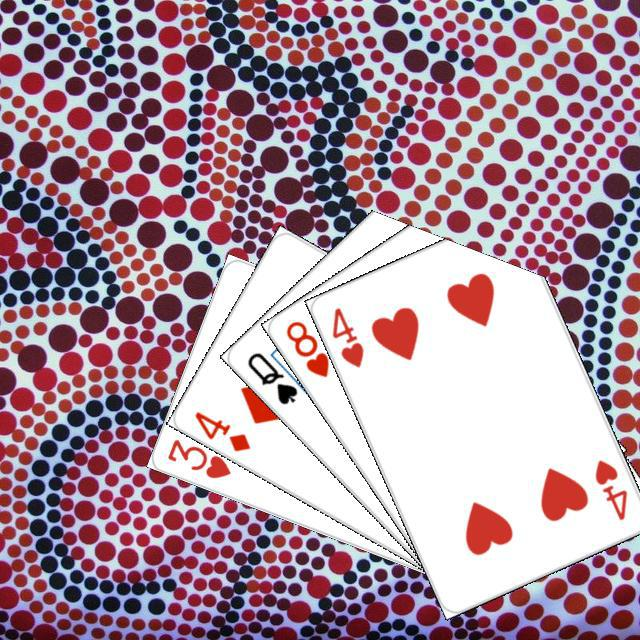3h: (162, 434, 233, 481)
4d: (189, 406, 252, 454)
4h: (589, 454, 630, 522), (327, 302, 366, 370)
8h: (281, 315, 331, 379)
Qs: (242, 347, 300, 407)
